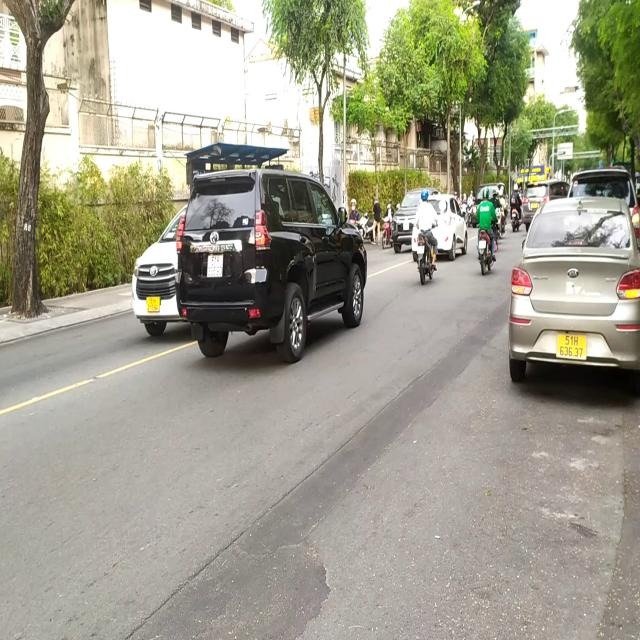bien_trang: (202, 251, 225, 274)
bien_vang: (554, 328, 588, 368)
